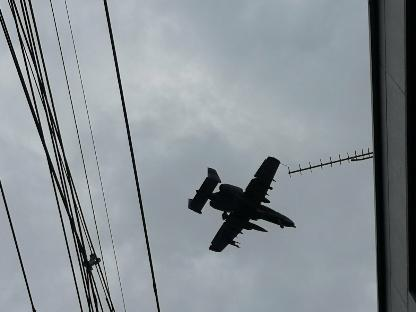A10: (187, 156, 295, 252)
